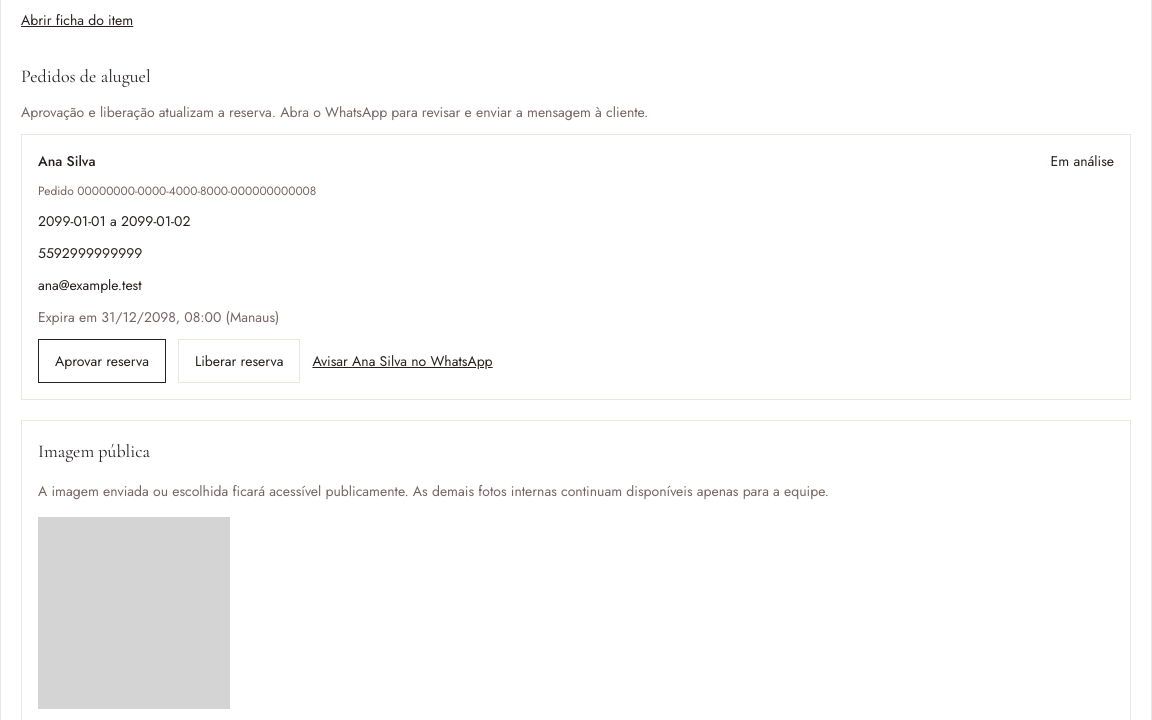
Test: Paixão Clutch admin curation › shows staff guest details and updates the manual WhatsApp message after approval
(page scrolled)
Expected: the heading "Ana Silva" is shown, [38,150,96,170]
Expected: the text "ana@example.test" is shown, [38,274,142,294]
Click the button "Aprovar reserva": (102, 360) [38,338,166,382]
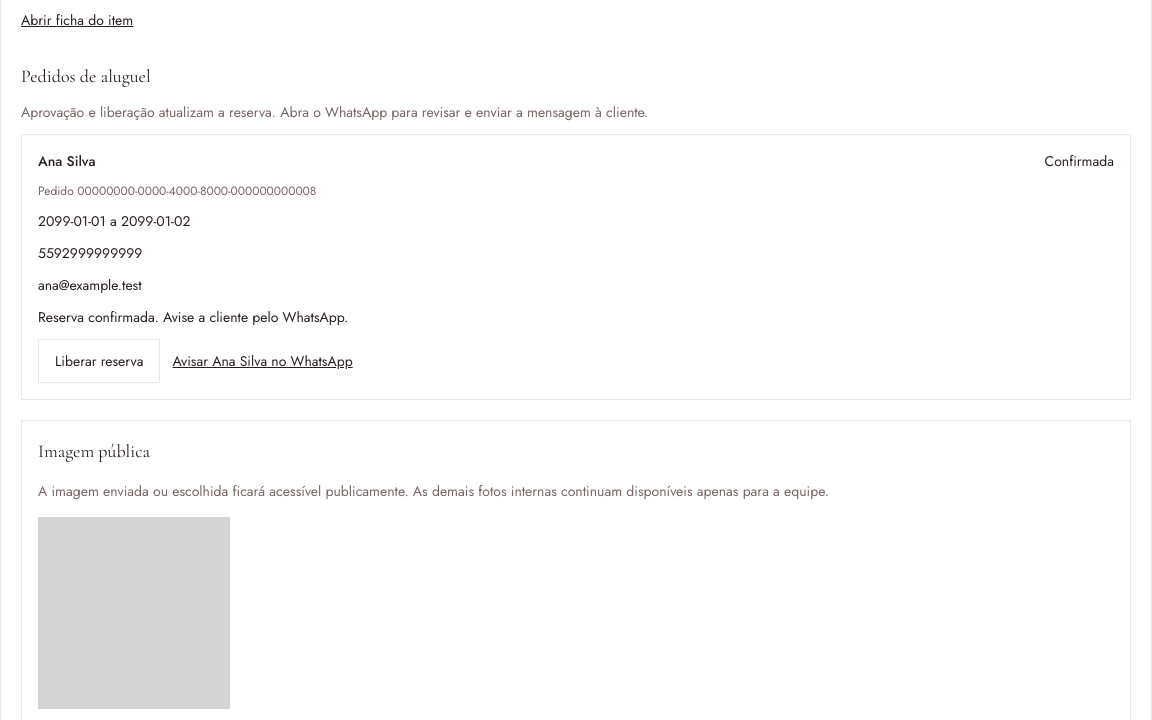
Expected: the button "Aprovar reserva" is gone
